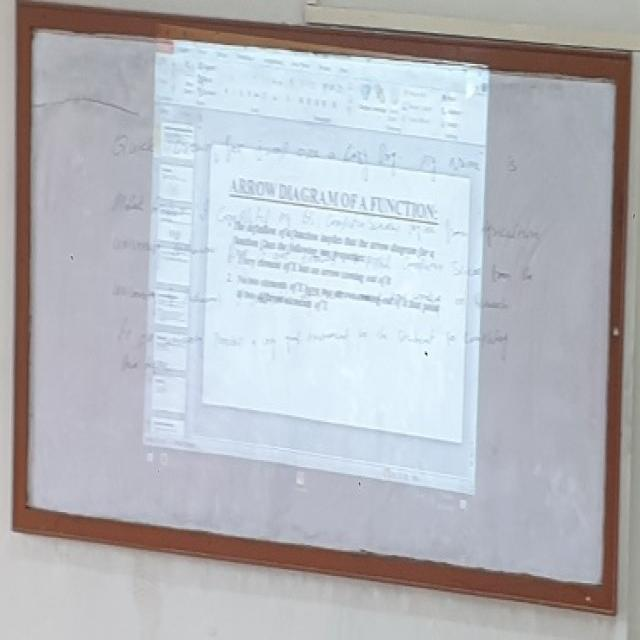Slide: (138, 24, 492, 530)
White-board: (21, 12, 622, 596)
